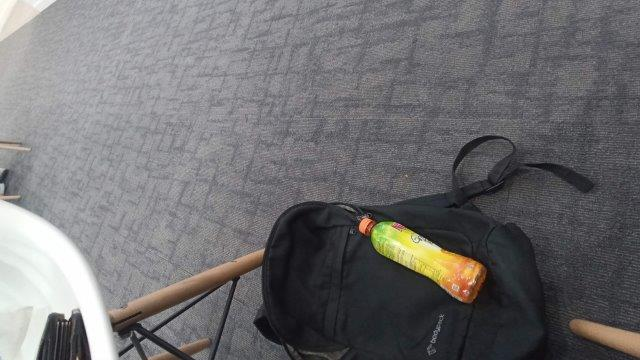botolplastik: (359, 217, 487, 303)
